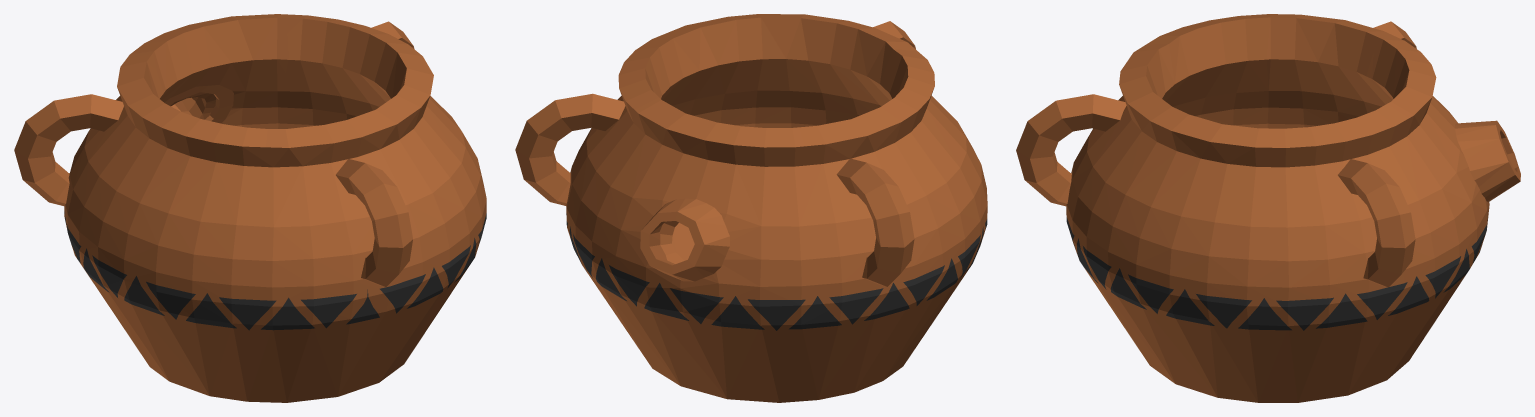
File: Pottery 19_3.fbx
3 views of the same model, side by side, from view 1: azimuth 30°, elevation 25°; view 2: azimuth 150°, elevation 25°; view 3: azimuth 270°, elevation 25° (orthographic).
Visible parts, largest first — view 1: Pottery 19_3; view 2: Pottery 19_3; view 3: Pottery 19_3.
Part boxes in pixels (x1,y1,x2,y2): Pottery 19_3: (14, 14, 486, 402); Pottery 19_3: (515, 14, 987, 402); Pottery 19_3: (1016, 14, 1520, 402).
Bounding box in the file's own units: 80.26 × 53.39 × 89.42.
